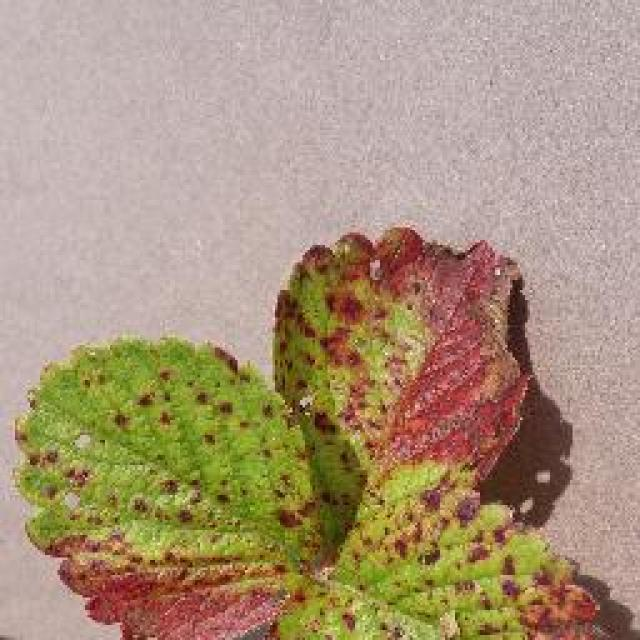Strawberry leaf scorch: (310, 263, 478, 467)
